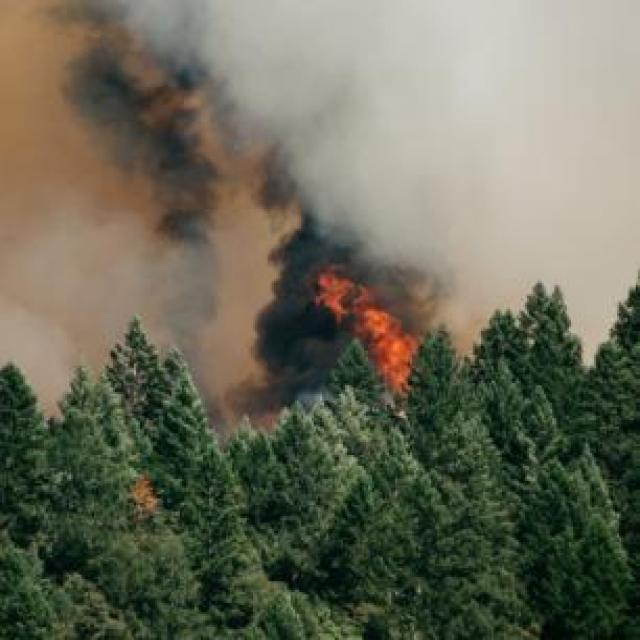fire: (314, 265, 416, 393)
smoke: (4, 5, 631, 387)
